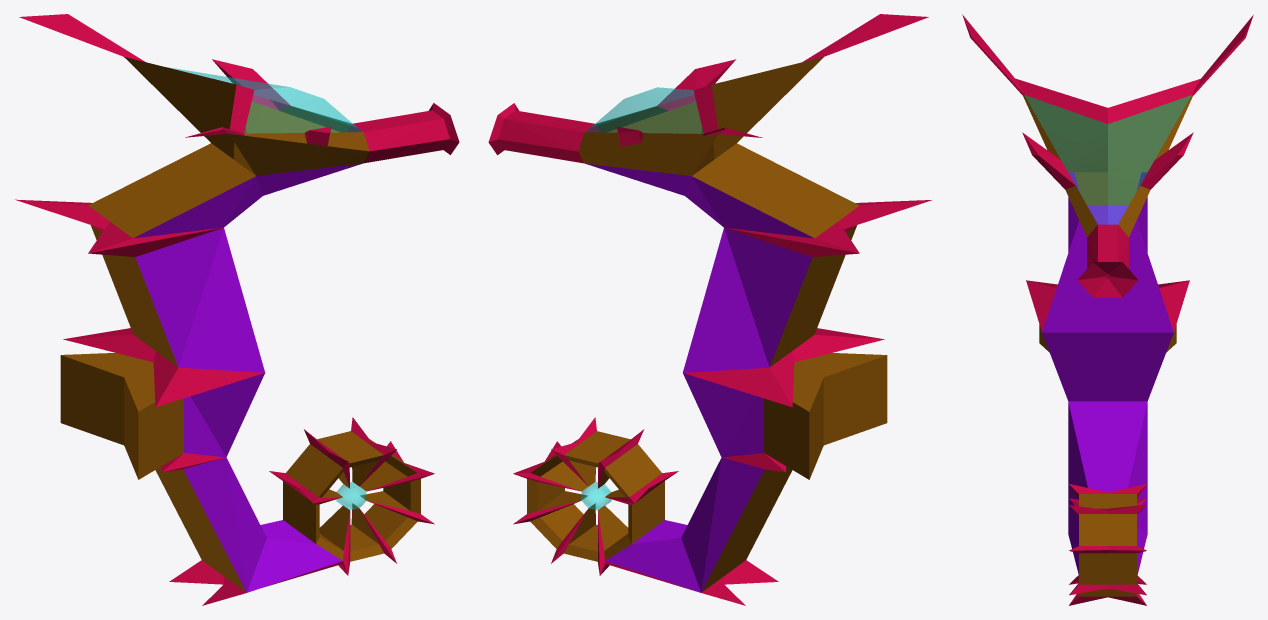
The model's file is PlayerShip-06-StrikerClassShip.fbx.
3 renders of one model, left to right at view 1: azimuth 30°, elevation 25°; view 2: azimuth 150°, elevation 25°; view 3: azimuth 270°, elevation 25°, orthographic. The views are drawn at different scales.
Visible parts, largest first — view 1: pasted__pCube1; view 2: pasted__pCube1; view 3: pasted__pCube1.
Boxes of the visible parts, left/top/right/bottom form: pasted__pCube1: left=15, top=14, right=459, bottom=605; pasted__pCube1: left=488, top=14, right=931, bottom=605; pasted__pCube1: left=962, top=14, right=1253, bottom=605.
Size of the model in its own units: 5.01 by 6.58 by 3.67.
